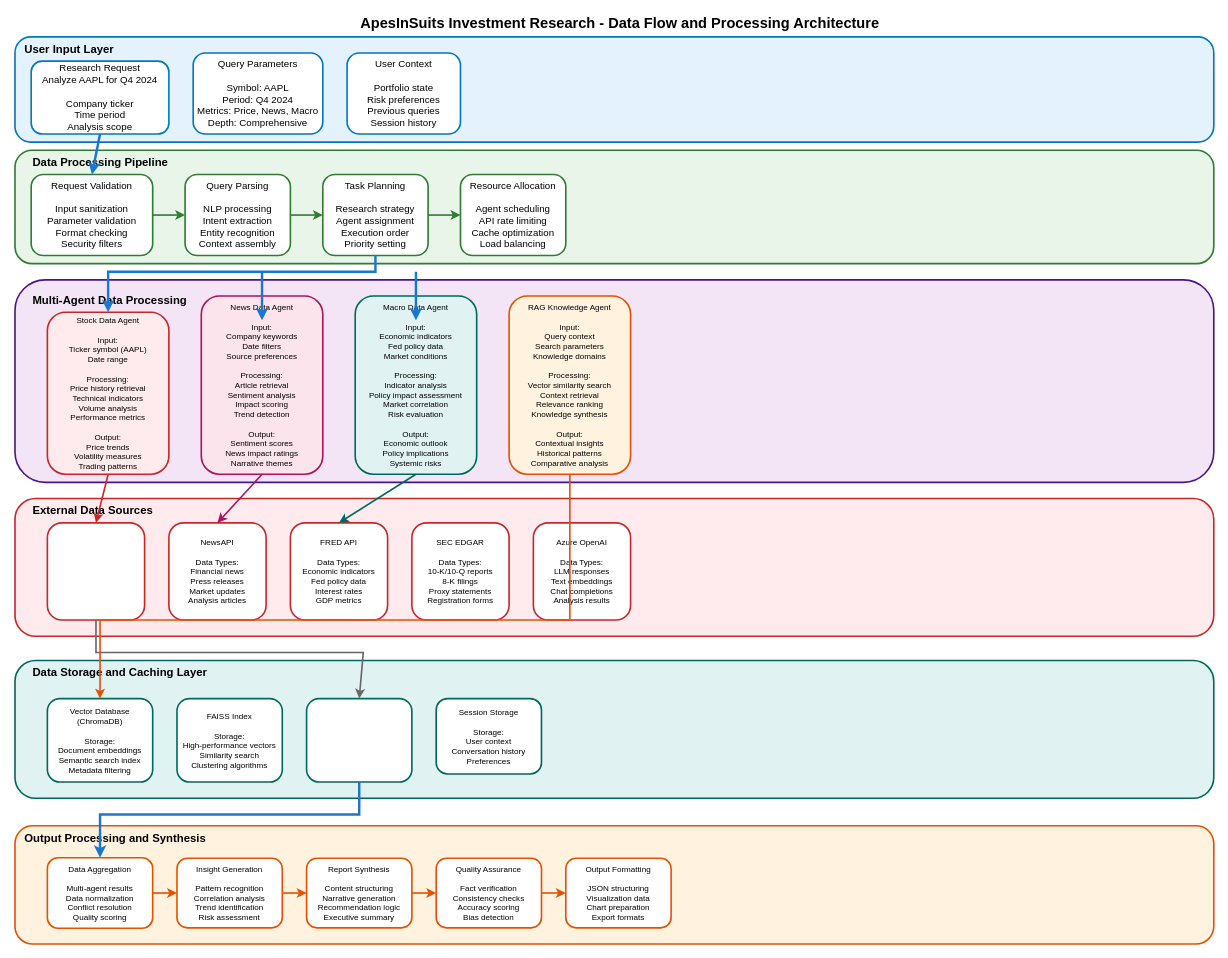
Image size: 1228x958. Some labels were removed from this diagram. Here are the shapes that lost their labels. From the top down, the box of each, then its label:
(46, 522, 145, 620): yFinance API Data Types: Stock prices Market data Historical charts Company info
(305, 697, 412, 782): Response Cache Storage: API responses Analysis results TTL management
